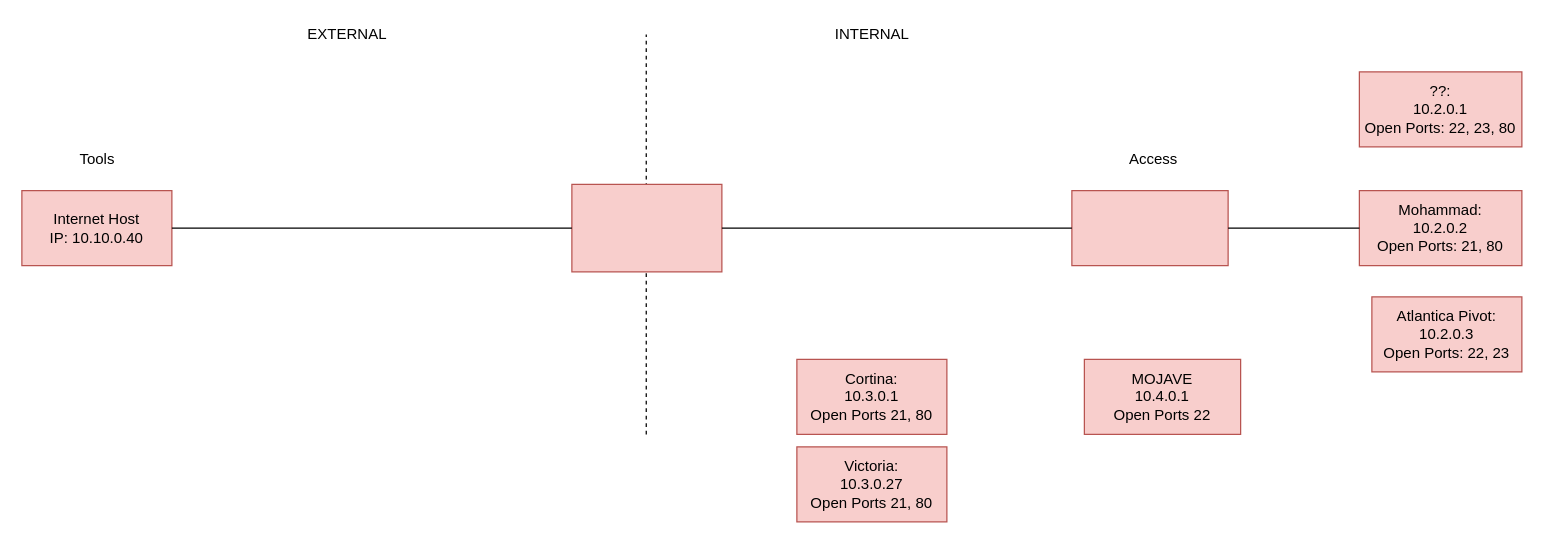
This 1544x544 diagram has some shape labels left out. The centre of each missing label's shape, as x and y in pixels:
"T3: Atropia Pivot Internal: 10.3.0.10 External: 10.50.29.96 Open Ports: 22" belongs at point 646,227.
"T4: Pineland 10.50.21.23 Open Ports 22,23" belongs at point 1149,227.
